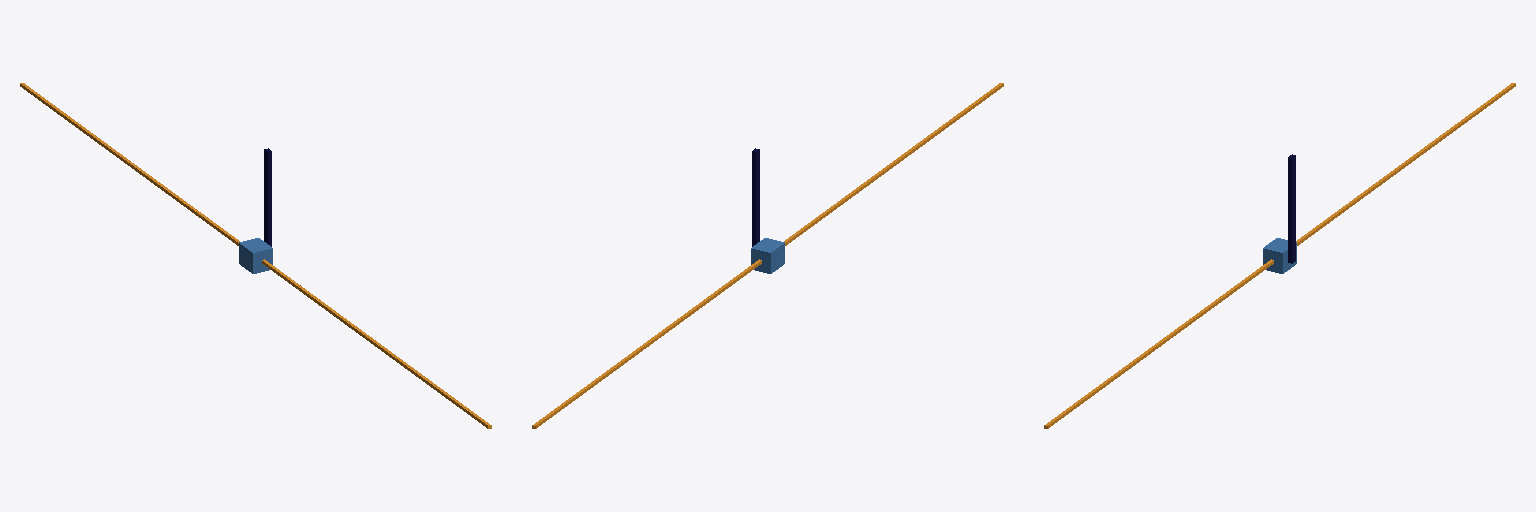
URDF robot description (cartpole):
<?xml version="1.0"?>
<robot name="cartpole">

    <link name="slider">
    <visual>
      <geometry>
        <box size="0.03 8 0.03"/>
      </geometry>
      <material name="slider_mat">
        <color rgba="0.9 0.6 0.2 1"/>
      </material>
    </visual>
    <collision>
      <geometry>
        <box size="0.03 8 0.03"/>
      </geometry>
    </collision>
  </link>

  <link name="cart">
    <visual>
      <geometry>
        <box size="0.2 0.25 0.2"/>
      </geometry>
      <material name="cart_mat">
        <color rgba="0.3 0.5 0.7 1"/>
      </material>
    </visual>
    <collision>
      <geometry>
          <box size="0.2 0.25 0.2"/>
      </geometry>
    </collision>
    <inertial>
      <mass value="1"/>
    </inertial>
  </link>

  <link name="pole">
    <visual>
      <geometry>
        <box size="0.04 0.06 1.0"/>	
      </geometry>
      <origin xyz="0 0 0.47"/>
      <material name="pole_mat">
        <color rgba="0.1 0.1 0.3 1"/>
      </material>
    </visual>
    <collision>
      <geometry>
        <box size="0.04 0.06 1.0"/>	
      </geometry>
      <origin xyz="0 0 0.47"/>
    </collision>
    <inertial>
      <mass value="1"/>
      <origin xyz="0 0 0.47"/>
    </inertial>
  </link>

  <joint name="slider_to_cart" type="prismatic">
    <axis xyz="0 1 0"/>
    <origin xyz="0 0 0"/>
    <parent link="slider"/>
    <child link="cart"/>
    <limit effort="1000.0" lower="-4" upper="4" velocity="100"/>
  </joint>

  <joint name="cart_to_pole" type="continuous">
    <axis xyz="1 0 0"/>
    <origin xyz="0.12 0 0"/>
    <parent link="cart"/>
    <child link="pole"/>
    <limit effort="1000.0" velocity="8"/>
  </joint>
  
</robot>

--- What the picture shows (computed from the rendered views, not written in the file) ---
3 views of the same robot in one strip: view 1: azimuth 30°, elevation 25°; view 2: azimuth 150°, elevation 25°; view 3: azimuth 330°, elevation 25° (orthographic).
Model cartpole with 3 links and 2 joints (1 continuous, 1 prismatic), rooted at slider, posed all joints at 0.
Visible links, largest first — view 1: slider, cart, pole; view 2: slider, cart, pole; view 3: slider, pole, cart.
Boxes of the visible links, left/top/right/bottom form: slider: left=20, top=83, right=491, bottom=428; cart: left=239, top=238, right=272, bottom=273; pole: left=264, top=148, right=271, bottom=246; slider: left=532, top=83, right=1003, bottom=428; cart: left=751, top=238, right=784, bottom=273; pole: left=752, top=148, right=759, bottom=246; slider: left=1044, top=83, right=1515, bottom=428; pole: left=1288, top=154, right=1295, bottom=263; cart: left=1263, top=238, right=1296, bottom=273.
Bounding box of the posed robot: 0.24 × 8 × 1.07 m (x, y, z).
Geometry: primitives only (box / cylinder / sphere), no mesh files.
